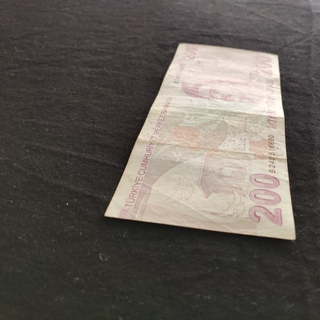200TLBack: (103, 42, 297, 241)
